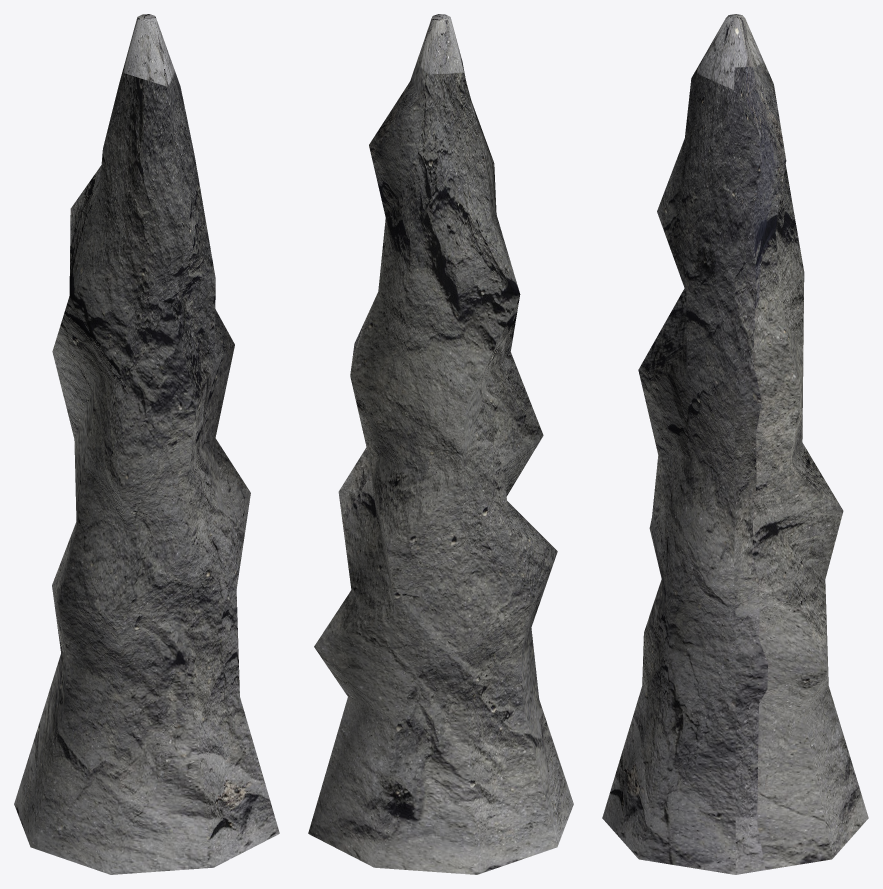
Rendered from stalagtite2.FBX.
3 views of the same model, side by side, from view 1: azimuth 30°, elevation 25°; view 2: azimuth 150°, elevation 25°; view 3: azimuth 270°, elevation 25° (orthographic).
Visible parts, largest first — view 1: Plane001; view 2: Plane001; view 3: Plane001.
Boxes of the visible parts, left/top/right/bottom form: Plane001: left=14, top=14, right=279, bottom=874; Plane001: left=308, top=14, right=573, bottom=874; Plane001: left=602, top=14, right=868, bottom=874.
Size of the model in its own units: 84.83 by 84.16 by 279.
Materials: 1 (1 with a texture image).
